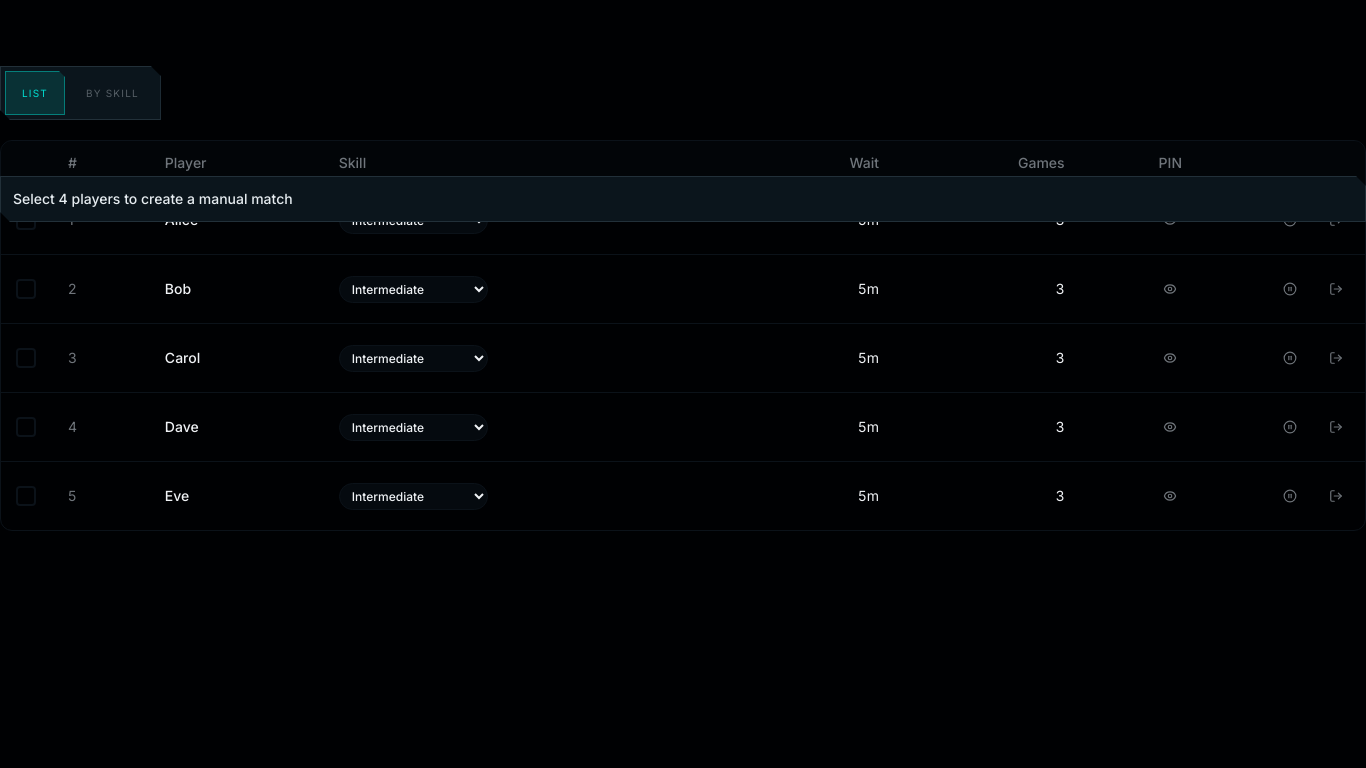
Test: QRP-P: team preview + swap across the net › QRP-P1: the preview appears from the FIRST pick, before any warning
Expected: the text "Carol" is shown, [165,349,200,366]
Step 1. Click the text "Carol" → click(683, 358), box [0,324,1365,392]
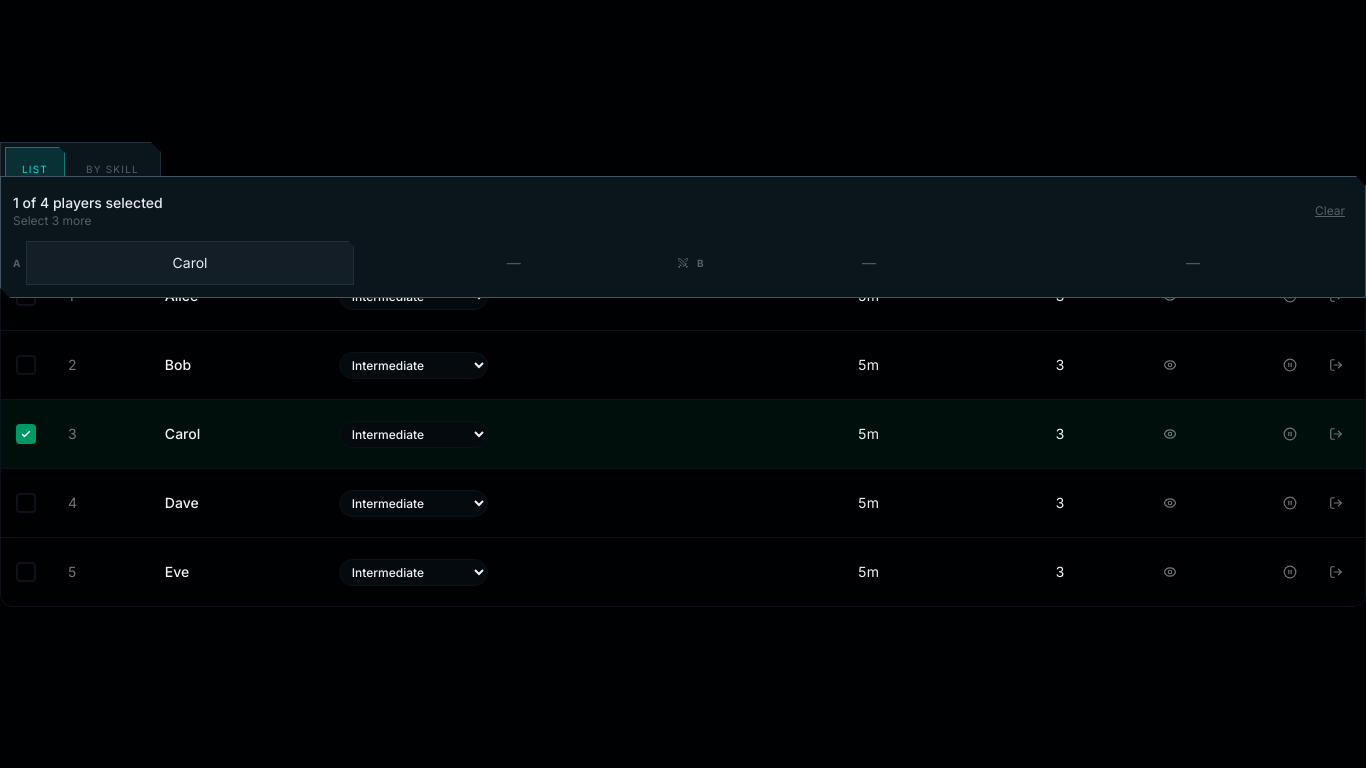
Expected: the element with test id "team-preview" is shown, [13,241,1353,285]
Expected: the button with aria-label "move carol" is shown, [26,241,354,285]
